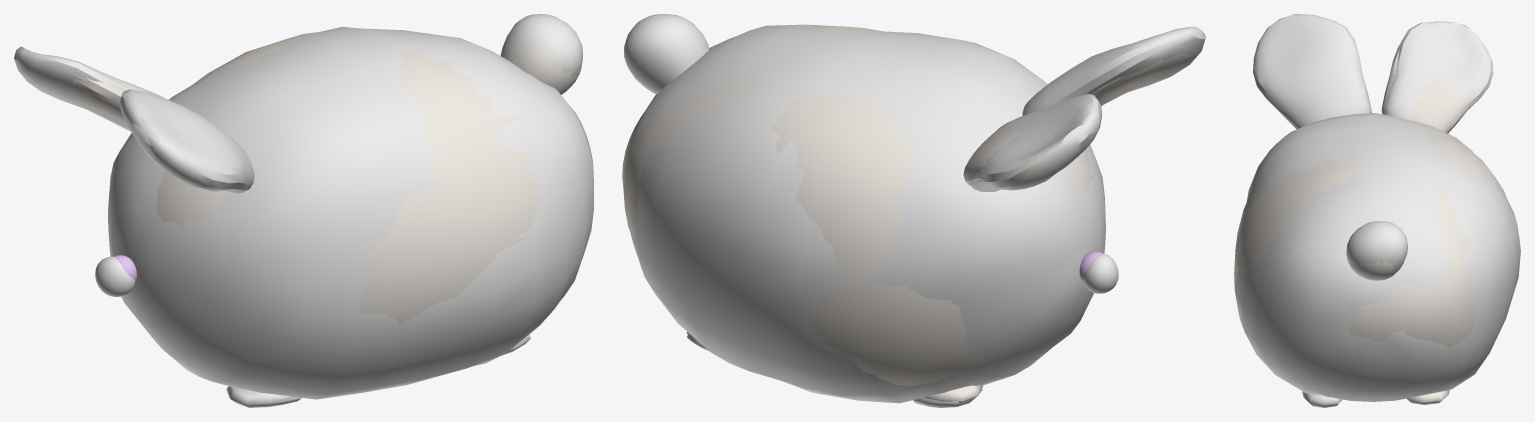
File: bunny_plush_white.fbx
3 renders of one model, left to right at view 1: azimuth 30°, elevation 25°; view 2: azimuth 150°, elevation 25°; view 3: azimuth 270°, elevation 25°, orthographic. The views are drawn at different scales.
Visible parts, largest first — view 1: bunny_plush_white; view 2: bunny_plush_white; view 3: bunny_plush_white.
Part boxes in pixels (x1,y1,x2,y2): bunny_plush_white: (14, 14, 593, 407); bunny_plush_white: (622, 14, 1205, 407); bunny_plush_white: (1234, 14, 1520, 407).
Size of the model in its own units: 0.9599 by 0.6305 by 0.6377.
2 materials, 1 textured.
